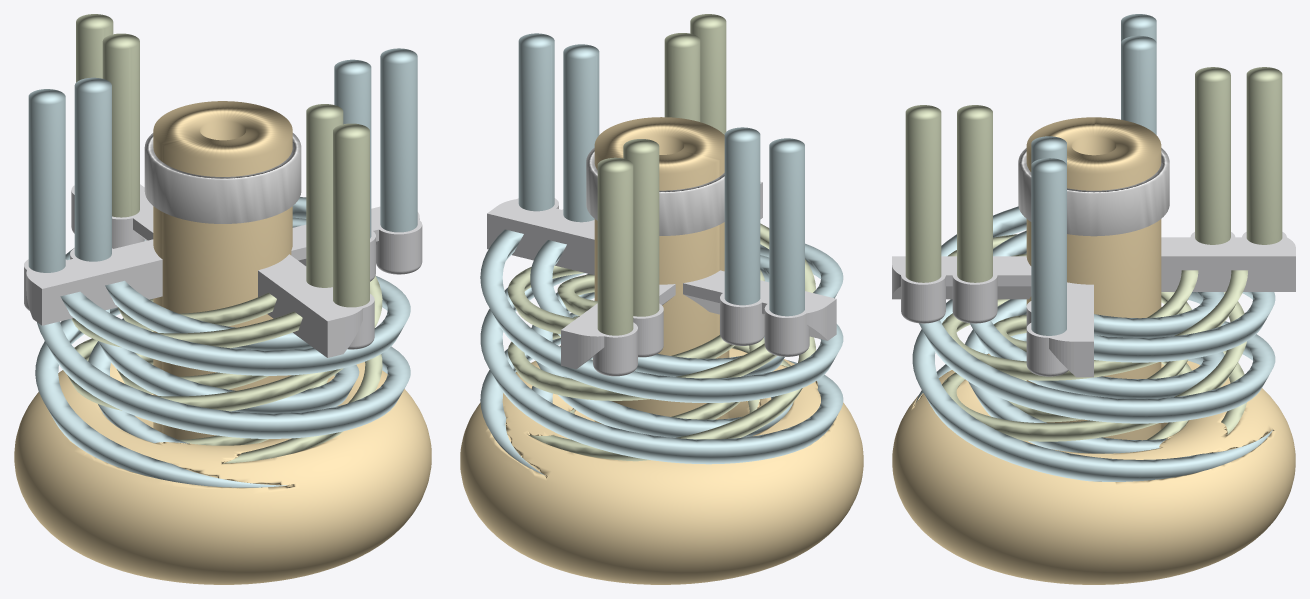
Rendered from ptp-taurus.glb.
3 views of the same model, side by side, from view 1: azimuth 30°, elevation 25°; view 2: azimuth 150°, elevation 25°; view 3: azimuth 270°, elevation 25° (orthographic). The views are drawn at different scales.
Parts seen in each view (by area): view 1: Group; view 2: Group; view 3: Group.
Part boxes in pixels (x1,y1,x2,y2): Group: (14,14,431,584); Group: (460,14,863,584); Group: (892,14,1295,584).
Size of the model in its own units: 0.6858 by 0.8008 by 0.6858.
